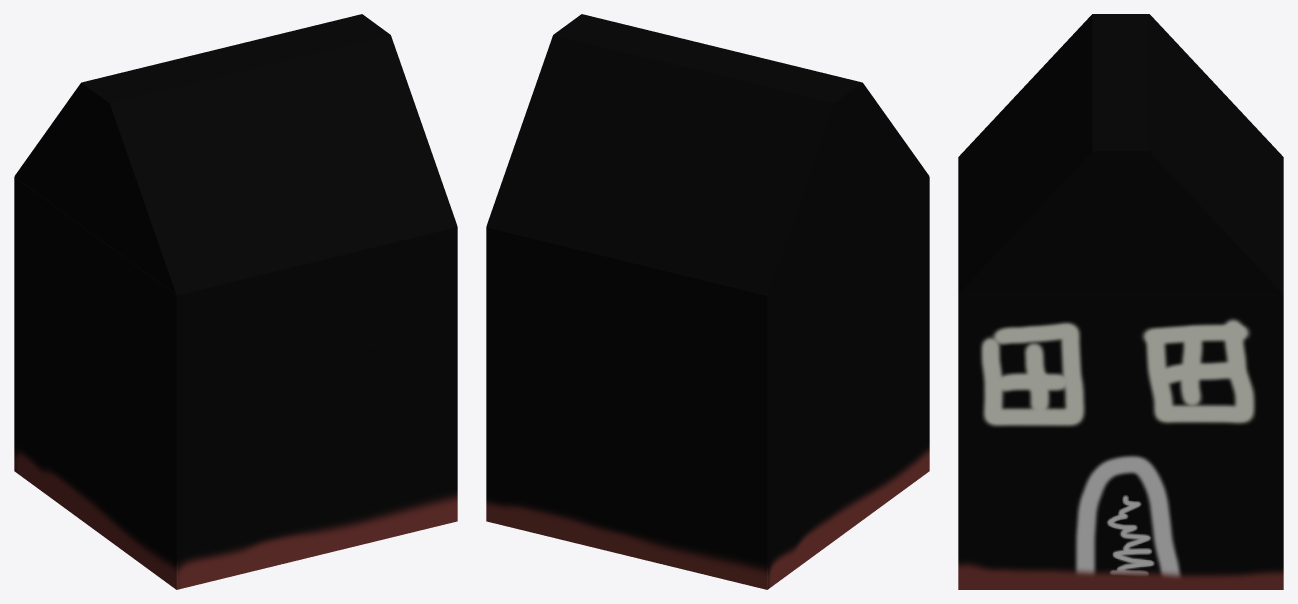
3 views of the same model, side by side, from view 1: azimuth 30°, elevation 25°; view 2: azimuth 150°, elevation 25°; view 3: azimuth 270°, elevation 25° (orthographic).
Visible parts, largest first — view 1: Cube; view 2: Cube; view 3: Cube.
Part boxes in pixels (bbox=[...]): Cube: bbox=[14, 14, 457, 589]; Cube: bbox=[486, 14, 929, 589]; Cube: bbox=[958, 14, 1283, 589].
Bounding box in the file's own units: 200 × 297 × 200.
2 materials, 1 textured.
